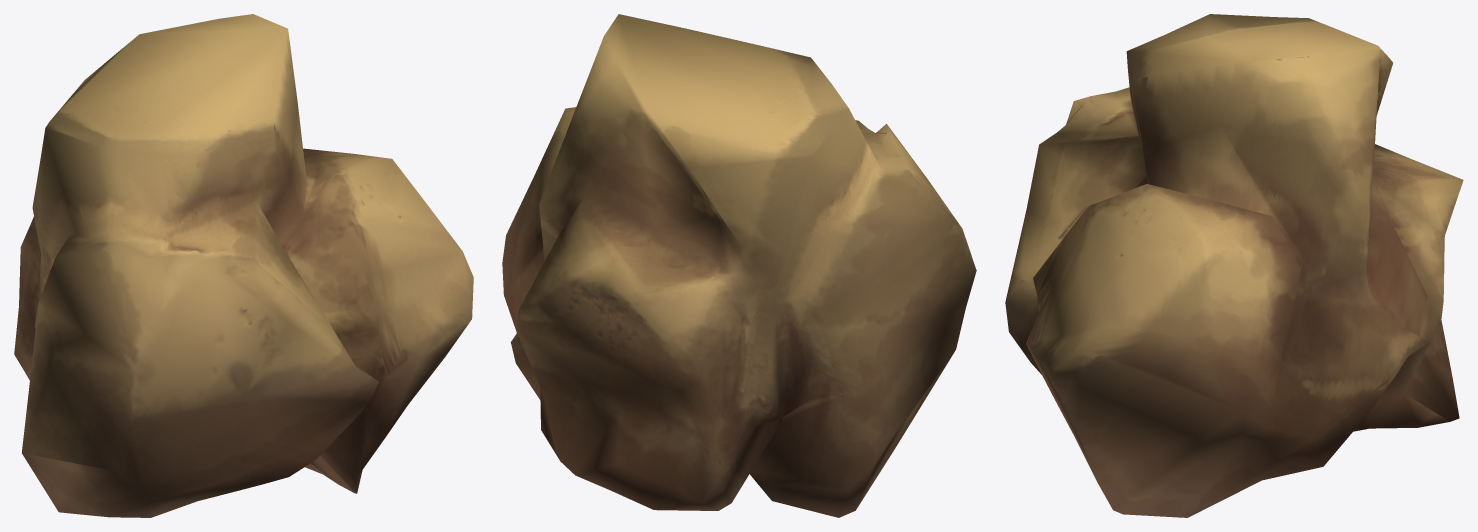
The model's file is Big_Rock.glb.
3 renders of one model, left to right at view 1: azimuth 30°, elevation 25°; view 2: azimuth 150°, elevation 25°; view 3: azimuth 270°, elevation 25°, orthographic. The views are drawn at different scales.
Visible parts, largest first — view 1: Big Rock LP; view 2: Big Rock LP; view 3: Big Rock LP.
Boxes of the visible parts, x1,y1,x2,y2 form: Big Rock LP: (14,14,473,517); Big Rock LP: (502,14,976,517); Big Rock LP: (1005,14,1463,517).
Bounding box in the file's own units: 12.29 × 13.28 × 12.06.
1 material, 1 textured.
